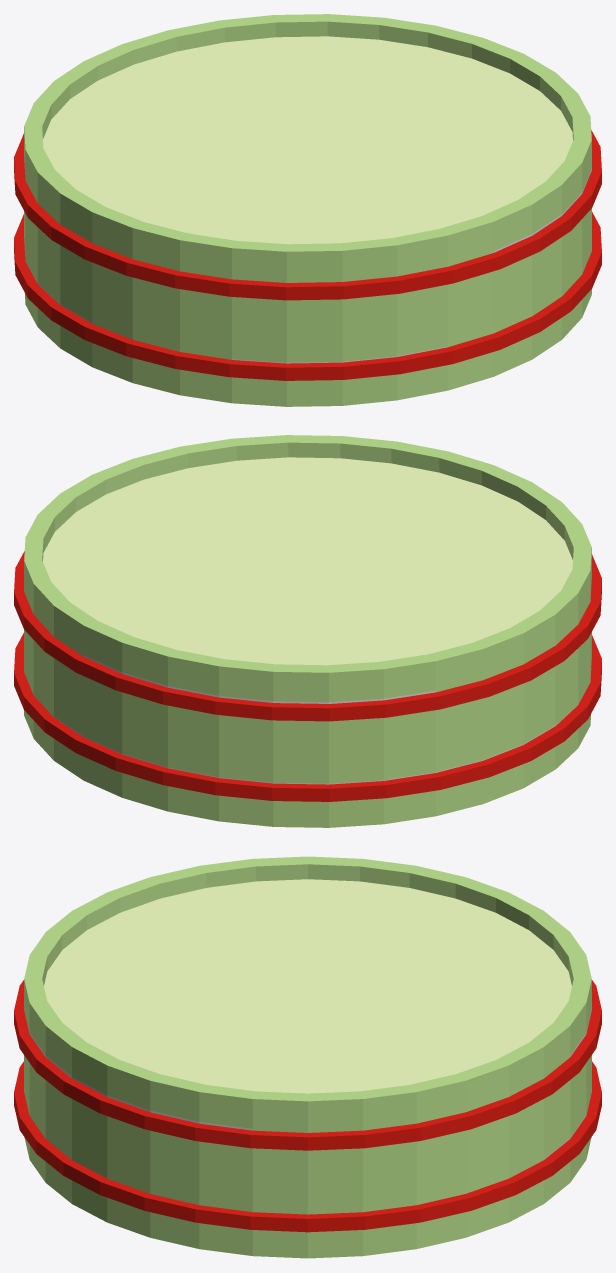
Rendered from Tambor.fbx.
The picture shows the model from 3 angles, top to bottom: view 1: azimuth 30°, elevation 25°; view 2: azimuth 150°, elevation 25°; view 3: azimuth 270°, elevation 25°; orthographic projection.
Visible parts, largest first — view 1: Cylinder.002; view 2: Cylinder.002; view 3: Cylinder.002.
Part boxes in pixels (x1,y1,x2,y2): Cylinder.002: [14, 14, 601, 406]; Cylinder.002: [14, 435, 601, 827]; Cylinder.002: [14, 856, 601, 1258].
Bounding box in the file's own units: 262 × 75.77 × 257.
